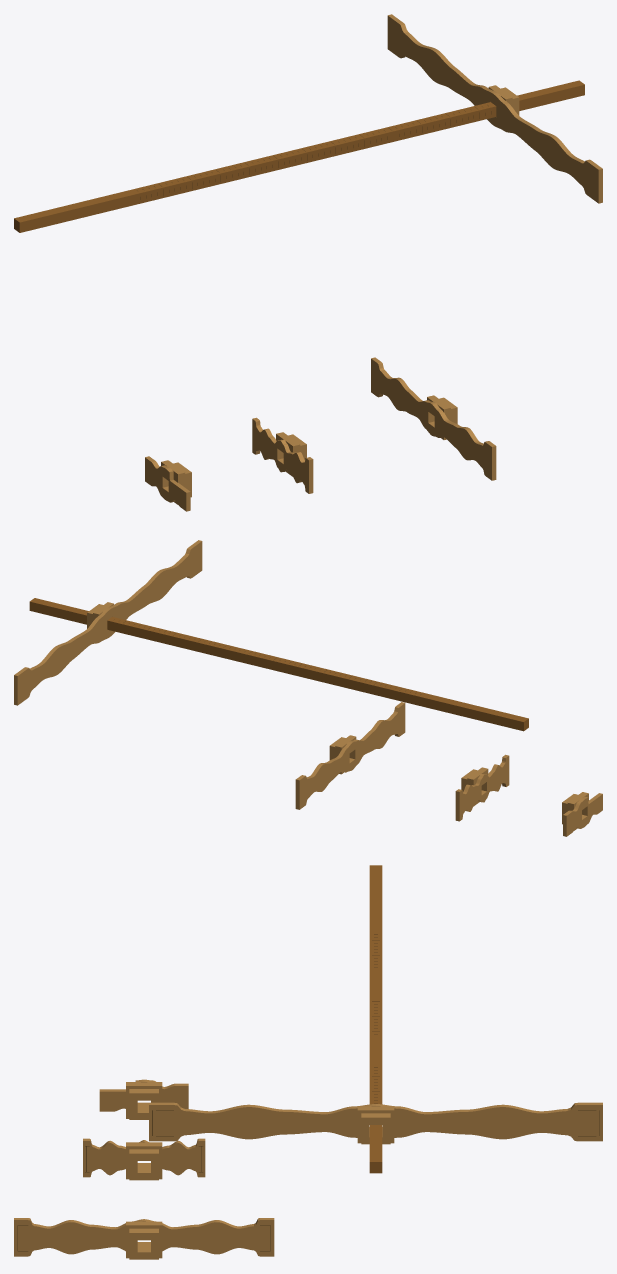
File: NEW688_CrossStaff_LOD0_v001.glb
The picture shows the model from 3 angles, top to bottom: view 1: azimuth 30°, elevation 25°; view 2: azimuth 150°, elevation 25°; view 3: azimuth 270°, elevation 25°; orthographic projection. The views are drawn at different scales.
Visible parts, largest first — view 1: Staff_787mm, Vane_509mm_mounted_carved_body, Vane_292mm_spare_carved_body, Vane_137mm_spare_carved_body, Vane_100mm_spare_carved_body; view 2: Staff_787mm, Vane_509mm_mounted_carved_body, Vane_292mm_spare_carved_body, Vane_137mm_spare_carved_body, Vane_100mm_spare_carved_body; view 3: Vane_509mm_mounted_carved_body, Vane_292mm_spare_carved_body, Staff_787mm, Vane_137mm_spare_carved_body, Vane_100mm_spare_carved_body, Vane_292mm_spare_stepped_collar_lip, Vane_137mm_spare_stepped_collar_lip, Vane_509mm_mounted_stepped_collar_lip, Vane_100mm_spare_stepped_collar_lip, Vane_509mm_mounted_stepped_collar_base, Vane_137mm_spare_stepped_collar_base, Vane_292mm_spare_stepped_collar_base.
Boxes of the visible parts, x1,y1,x2,y2 form: Staff_787mm: (14, 80, 584, 232); Vane_509mm_mounted_carved_body: (387, 14, 602, 203); Vane_292mm_spare_carved_body: (371, 357, 496, 480); Vane_137mm_spare_carved_body: (252, 417, 313, 493); Vane_100mm_spare_carved_body: (145, 456, 190, 511); Staff_787mm: (29, 598, 528, 731); Vane_509mm_mounted_carved_body: (14, 540, 202, 705); Vane_292mm_spare_carved_body: (295, 702, 405, 809); Vane_137mm_spare_carved_body: (455, 754, 509, 821); Vane_100mm_spare_carved_body: (563, 793, 602, 836); Vane_509mm_mounted_carved_body: (149, 1102, 602, 1141); Vane_292mm_spare_carved_body: (14, 1218, 274, 1256); Staff_787mm: (369, 865, 382, 1173); Vane_137mm_spare_carved_body: (83, 1138, 205, 1177); Vane_100mm_spare_carved_body: (99, 1079, 188, 1111); Vane_292mm_spare_stepped_collar_lip: (129, 1228, 158, 1259); Vane_137mm_spare_stepped_collar_lip: (129, 1149, 158, 1180); Vane_509mm_mounted_stepped_collar_lip: (361, 1113, 390, 1144); Vane_100mm_spare_stepped_collar_lip: (129, 1089, 158, 1119); Vane_509mm_mounted_stepped_collar_base: (357, 1106, 394, 1143); Vane_137mm_spare_stepped_collar_base: (126, 1142, 162, 1179); Vane_292mm_spare_stepped_collar_base: (126, 1221, 162, 1258).
Bounding box in the file's own units: 0.787 × 0.2975 × 0.6605.
